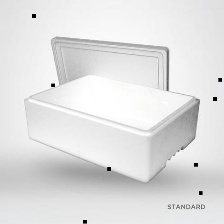foam_box: (16, 30, 205, 186)
